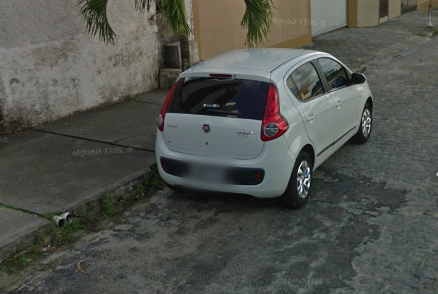car: (152, 41, 378, 212)
